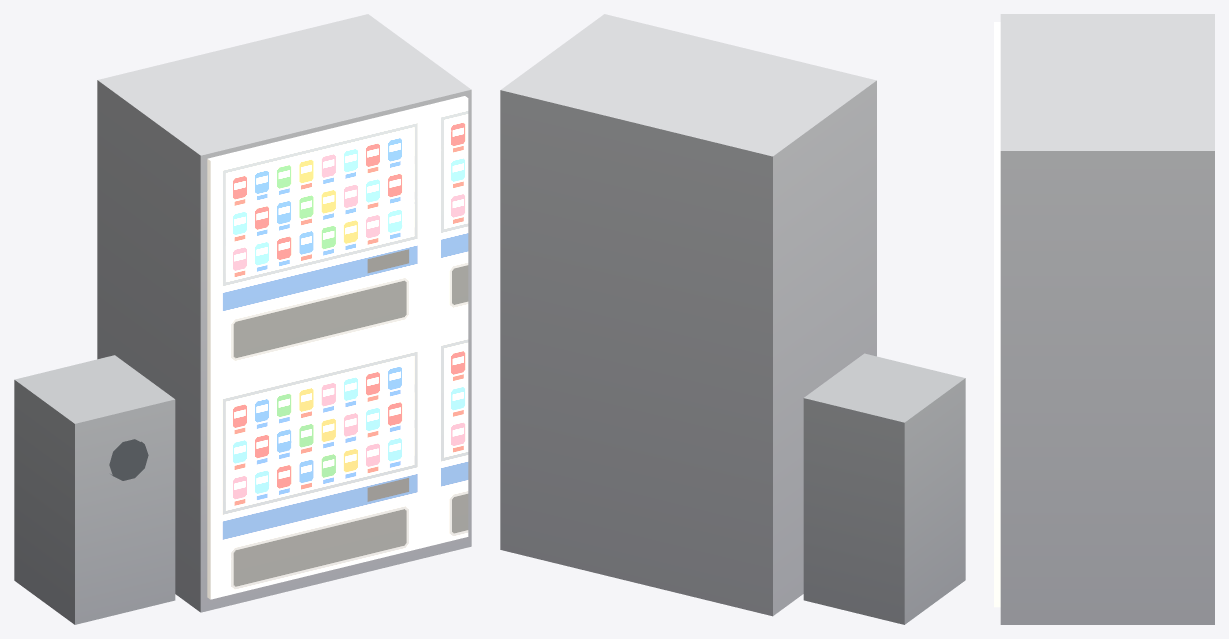
File: anime_vending.glb
3 views of the same model, side by side, from view 1: azimuth 30°, elevation 25°; view 2: azimuth 150°, elevation 25°; view 3: azimuth 270°, elevation 25° (orthographic). The views are drawn at different scales.
Visible parts, largest first — view 1: anime_vending; view 2: anime_vending; view 3: anime_vending.
Boxes of the visible parts, x1,y1,x2,y2 form: anime_vending: (14,14,471,624); anime_vending: (500,14,965,624); anime_vending: (994,14,1214,624).
Size of the model in its own units: 1.73 by 2 by 0.845.
4 materials, 1 textured.
